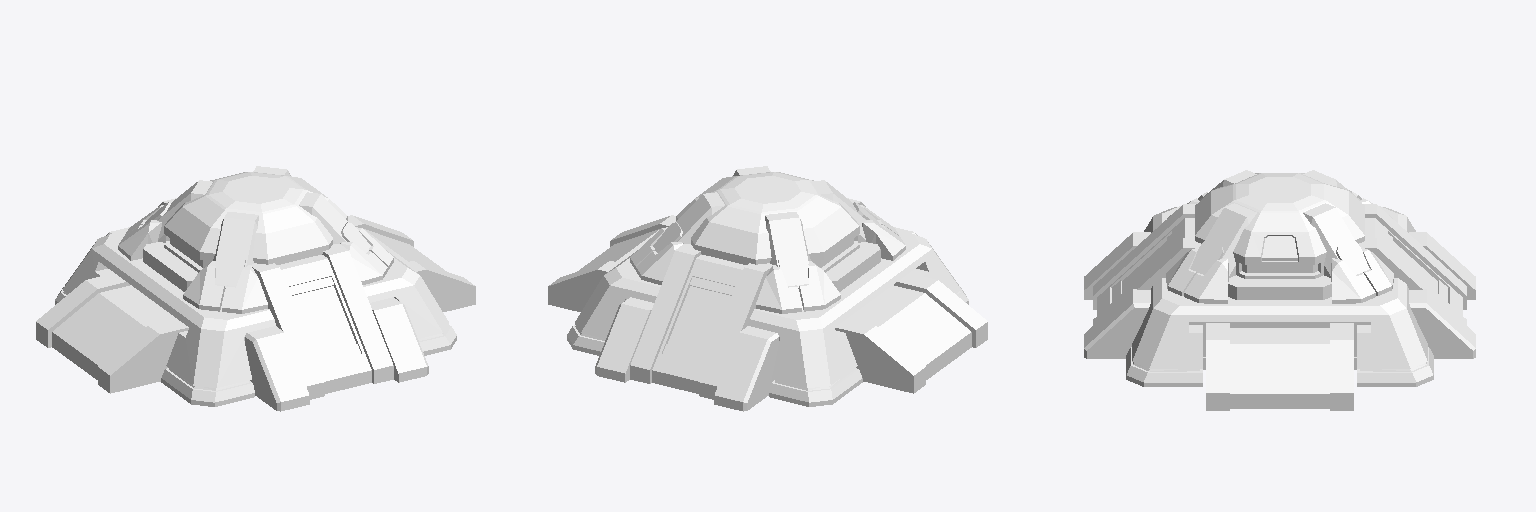
The model's file is bunker.obj.
The picture shows the model from 3 angles: view 1: azimuth 30°, elevation 25°; view 2: azimuth 150°, elevation 25°; view 3: azimuth 270°, elevation 25°; orthographic projection.
Visible parts, largest first — view 1: LP6_Mesh.006, LP3_Mesh.003, LP4_Mesh.004, LP_Mesh, LP5_Mesh.005, LP2.001_Mesh.002, LP1_Mesh.001; view 2: LP6_Mesh.006, LP3_Mesh.003, LP4_Mesh.004, LP_Mesh, LP5_Mesh.005, LP2.001_Mesh.002, LP1_Mesh.001; view 3: LP6_Mesh.006, LP_Mesh, LP3_Mesh.003, LP4_Mesh.004, LP5_Mesh.005, LP1_Mesh.001, LP2.001_Mesh.002.
Part boxes in pixels (left/top/right/bottom): LP6_Mesh.006: left=55, top=230, right=456, bottom=406; LP3_Mesh.003: left=36, top=215, right=475, bottom=393; LP4_Mesh.004: left=158, top=198, right=393, bottom=399; LP_Mesh: left=143, top=172, right=347, bottom=291; LP5_Mesh.005: left=106, top=227, right=428, bottom=411; LP2.001_Mesh.002: left=118, top=205, right=393, bottom=313; LP1_Mesh.001: left=144, top=166, right=370, bottom=288; LP6_Mesh.006: left=567, top=230, right=968, bottom=406; LP3_Mesh.003: left=548, top=215, right=987, bottom=393; LP4_Mesh.004: left=630, top=198, right=865, bottom=399; LP_Mesh: left=676, top=172, right=880, bottom=291; LP5_Mesh.005: left=595, top=227, right=917, bottom=411; LP2.001_Mesh.002: left=630, top=205, right=905, bottom=313; LP1_Mesh.001: left=653, top=166, right=879, bottom=288; LP6_Mesh.006: left=1126, top=206, right=1433, bottom=386; LP_Mesh: left=1195, top=173, right=1364, bottom=299; LP3_Mesh.003: left=1206, top=323, right=1353, bottom=410; LP4_Mesh.004: left=1093, top=204, right=1466, bottom=325; LP5_Mesh.005: left=1084, top=232, right=1475, bottom=358; LP1_Mesh.001: left=1190, top=170, right=1369, bottom=277; LP2.001_Mesh.002: left=1166, top=198, right=1393, bottom=303.
Size of the model in its own units: 138 by 47.56 by 128.